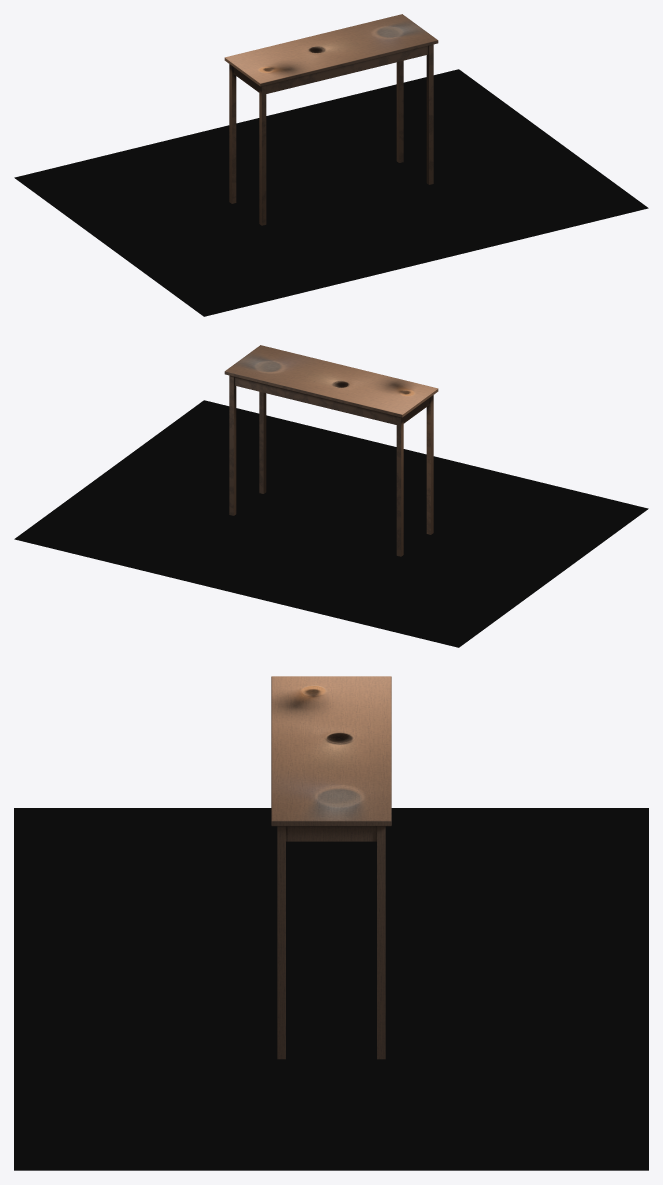
The picture shows the model from 3 angles, top to bottom: view 1: azimuth 30°, elevation 25°; view 2: azimuth 150°, elevation 25°; view 3: azimuth 270°, elevation 25°; orthographic projection. The views are drawn at different scales.
Parts seen in each view (by area): view 1: Shadow, Table; view 2: Shadow, Table; view 3: Shadow, Table.
Part boxes in pixels (x1,y1,x2,y2): Shadow: (14,69,648,316); Table: (224,14,438,225); Shadow: (14,400,648,647); Table: (224,345,438,556); Shadow: (14,808,648,1170); Table: (271,676,391,1059).
Bounding box in the file's own units: 10 × 3.1 × 7.4.
2 materials, 2 textured.
